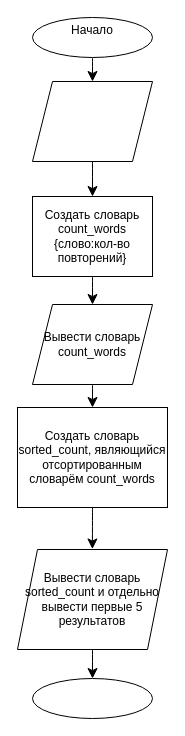
The diagram is 185 pixels wide and 736 high, and some of its shapes have lost their labels. Each missing label, with the centre of its shape:
"Ввод текста, сразу разделить с split" goes at pixel 92 121.
"Конец" goes at pixel 92 698.
